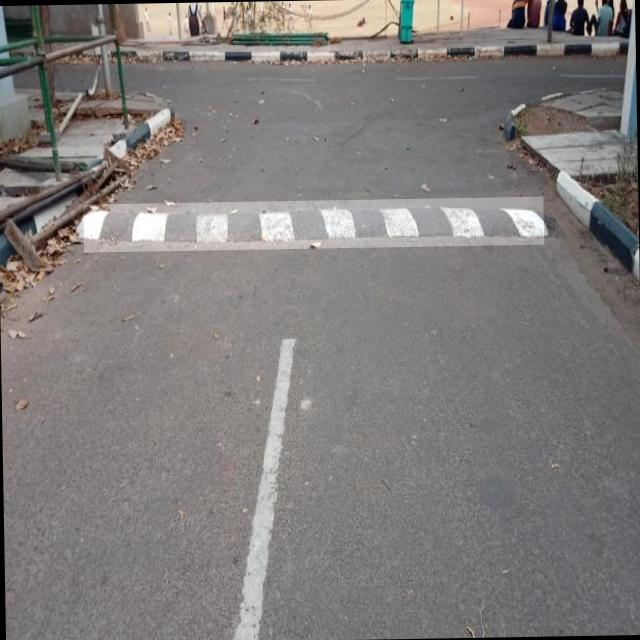bump: (83, 195, 544, 252)
